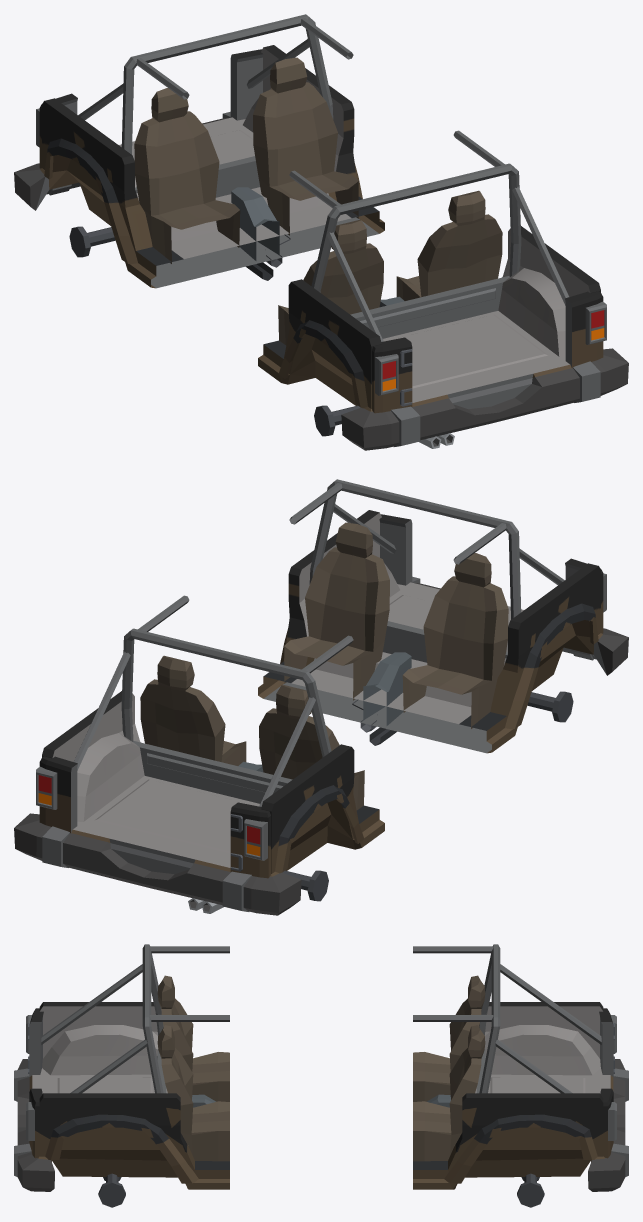
File: aaaa.fbx
The picture shows the model from 3 angles, top to bottom: view 1: azimuth 30°, elevation 25°; view 2: azimuth 150°, elevation 25°; view 3: azimuth 270°, elevation 25°; orthographic projection. The views are drawn at different scales.
Parts seen in each view (by area): view 1: SK_Veh_4x4_Car_Alt_01_positive; view 2: SK_Veh_4x4_Car_Alt_01_positive; view 3: SK_Veh_4x4_Car_Alt_01_positive.
Part boxes in pixels (bbox=[...]): SK_Veh_4x4_Car_Alt_01_positive: bbox=[14, 14, 628, 450]; SK_Veh_4x4_Car_Alt_01_positive: bbox=[14, 479, 628, 915]; SK_Veh_4x4_Car_Alt_01_positive: bbox=[14, 944, 628, 1207].
Bounding box in the file's own units: 220 × 169 × 504.
